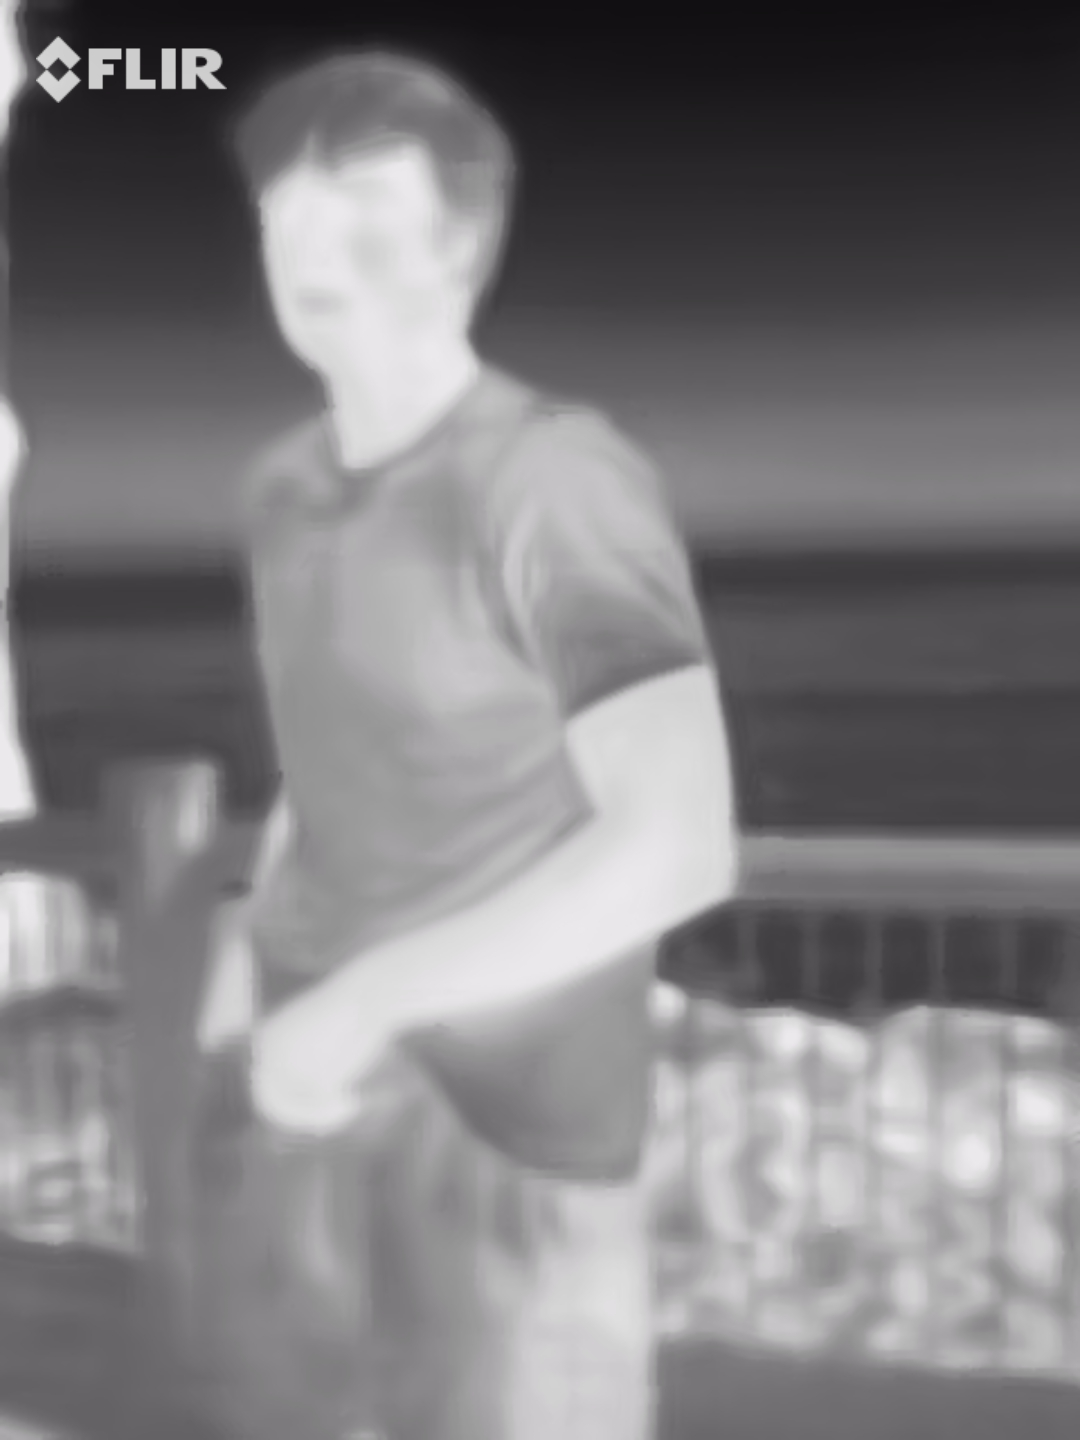head: (232, 47, 507, 363)
